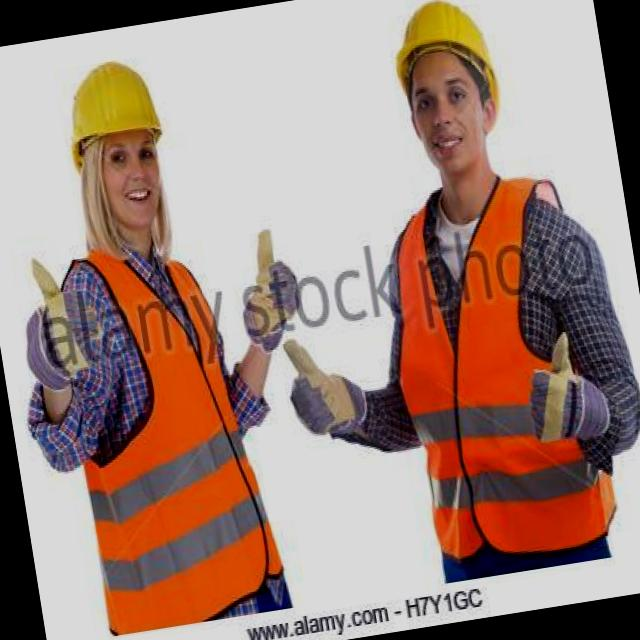helmet: (51, 50, 172, 162), (379, 0, 509, 93)
no-goggles: (390, 62, 515, 138), (60, 120, 178, 198)
vest: (372, 164, 628, 582), (34, 220, 282, 629)
